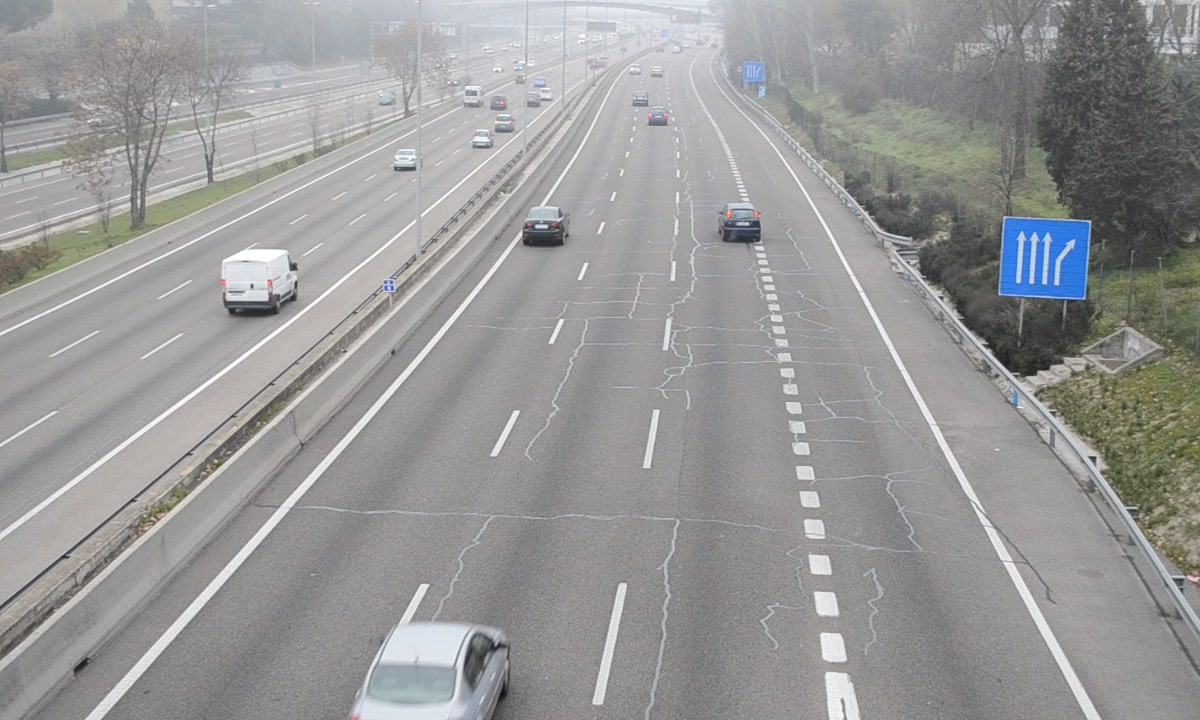car: (354, 624, 506, 720), (523, 206, 568, 243), (720, 203, 762, 242)
